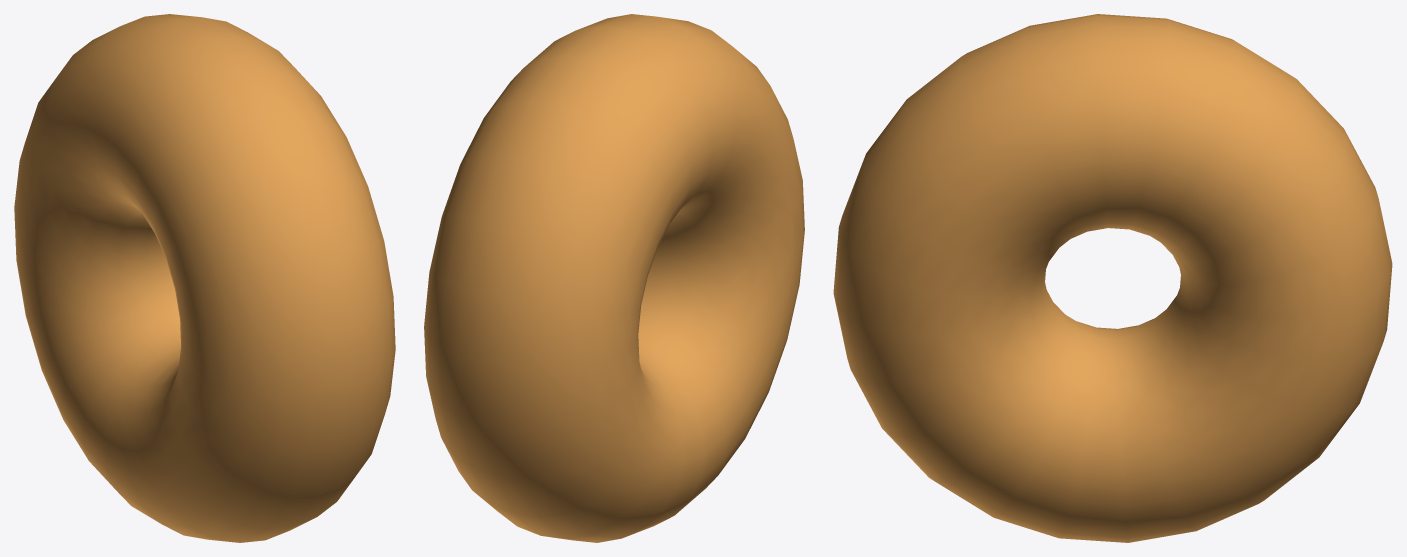
The model's file is tape1_6.dae.
3 renders of one model, left to right at view 1: azimuth 30°, elevation 25°; view 2: azimuth 150°, elevation 25°; view 3: azimuth 270°, elevation 25°, orthographic. The views are drawn at different scales.
Parts seen in each view (by area): view 1: tape1_019; view 2: tape1_019; view 3: tape1_019.
Part boxes in pixels (x1,y1,x2,y2): tape1_019: (14, 14, 395, 542); tape1_019: (424, 14, 804, 542); tape1_019: (833, 14, 1392, 542).
Size of the model in its own units: 0.0739 by 0.1816 by 0.1816.
